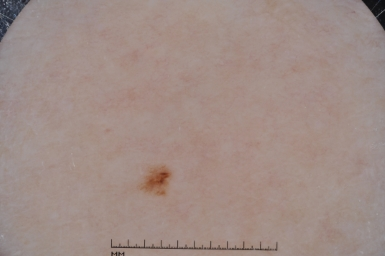melanoma: (141, 165, 171, 197)
